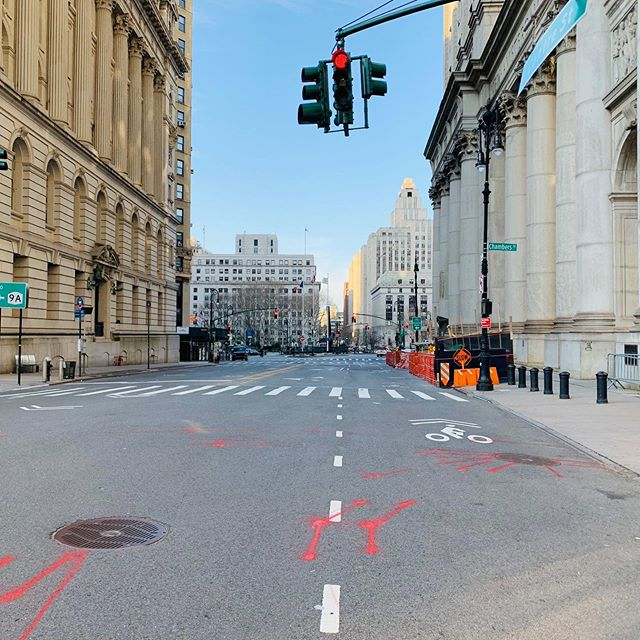building: (431, 1, 640, 374), (1, 1, 185, 369), (197, 241, 319, 343), (362, 187, 424, 349)
crosswalk: (1, 364, 480, 412)
manhole cover: (40, 491, 194, 569)
sky: (192, 1, 430, 232)
street: (1, 352, 640, 640)
